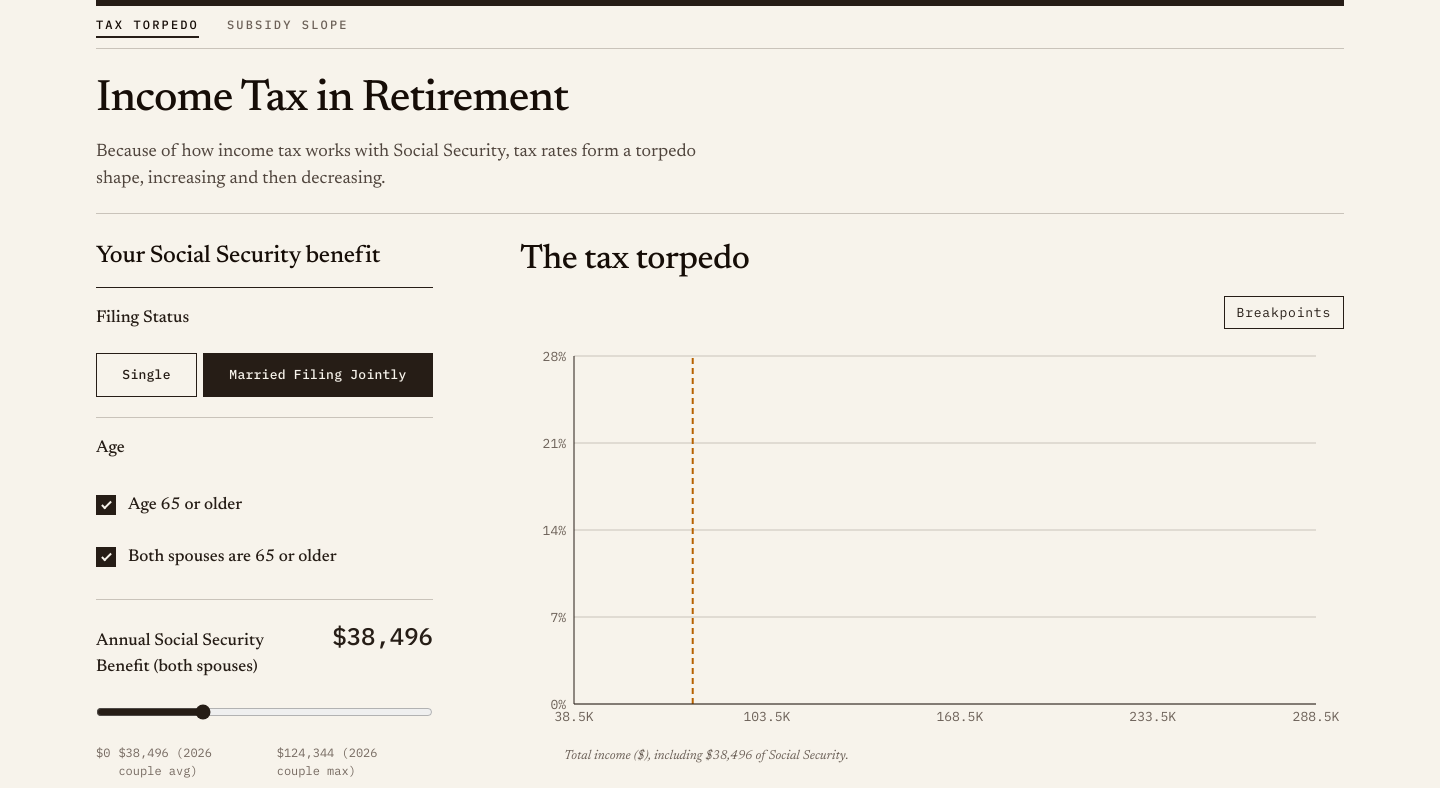
the return in the address bar › drops the spouse flag when the filer stops being 65
Expected: the checkbox labelled "Both spouses are 65 or older" is checked, [96,548,116,568]
Click the checkbox labelled "Age 65 or older": (106,506) [96,496,116,516]
Wait 400 ms
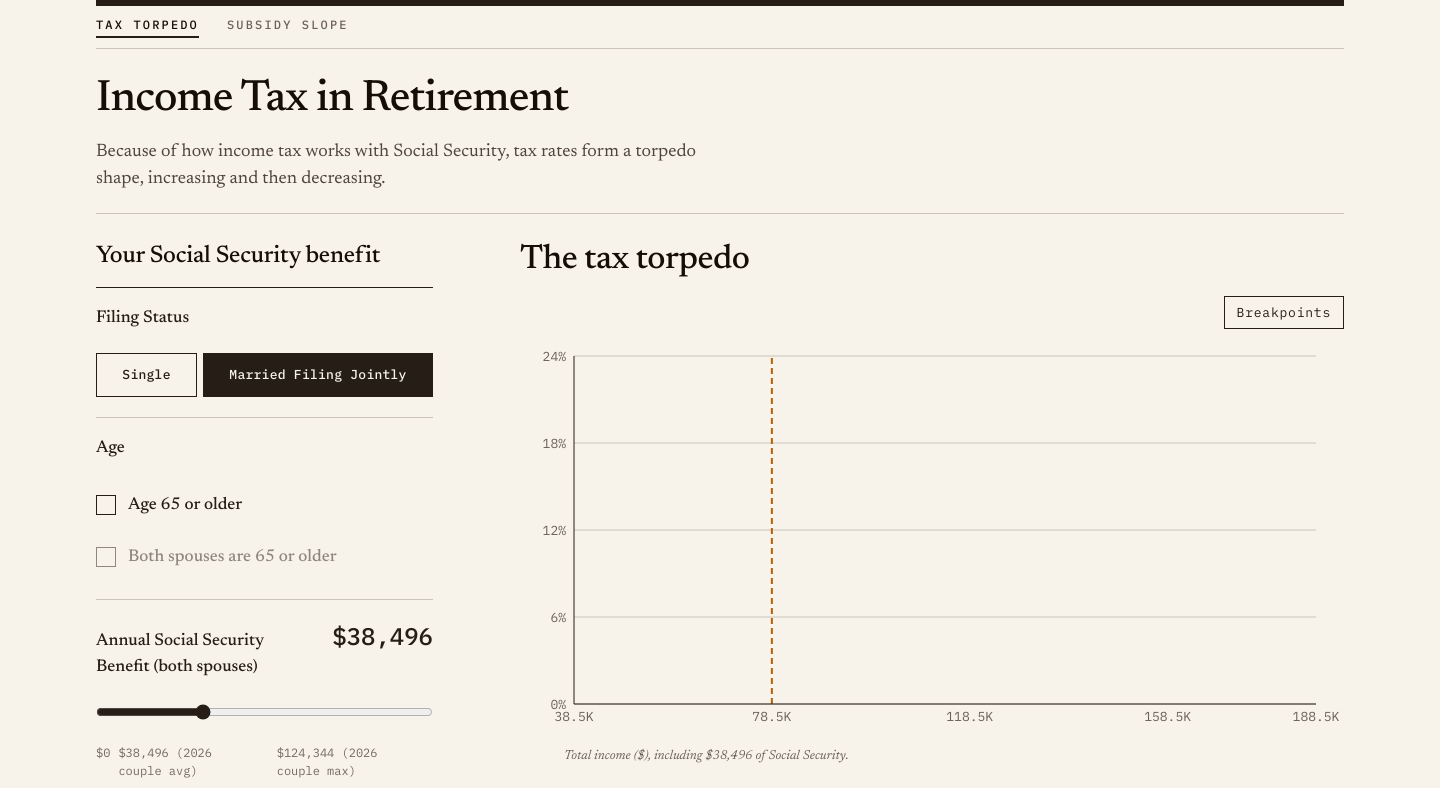
Now the checkbox labelled "Both spouses are 65 or older" is not checked, box [96,548,116,568]
